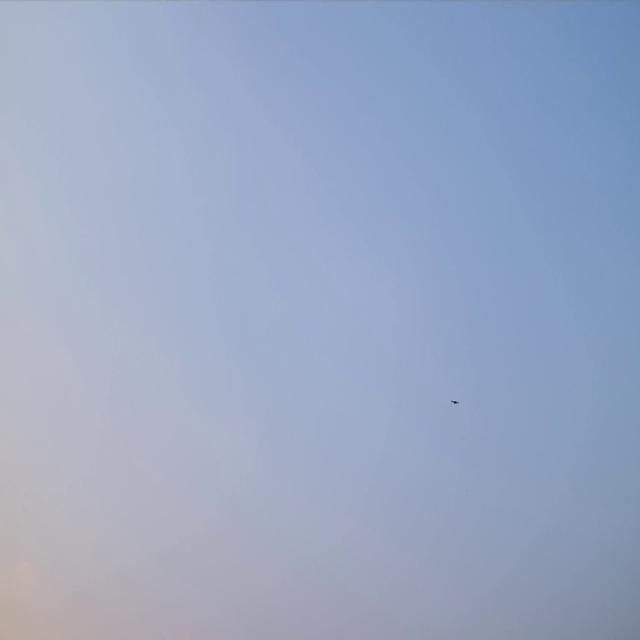UAV: (450, 397, 459, 405)
